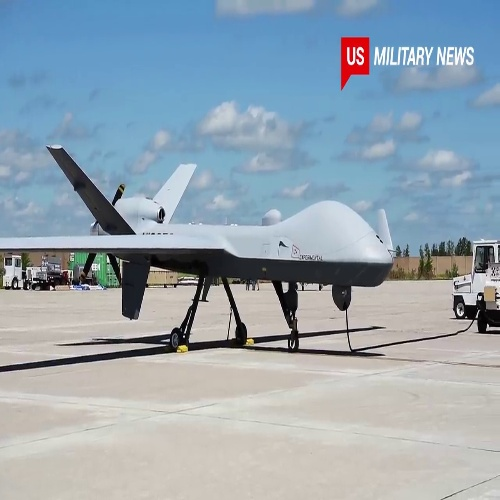uav89: (3, 146, 400, 325)
